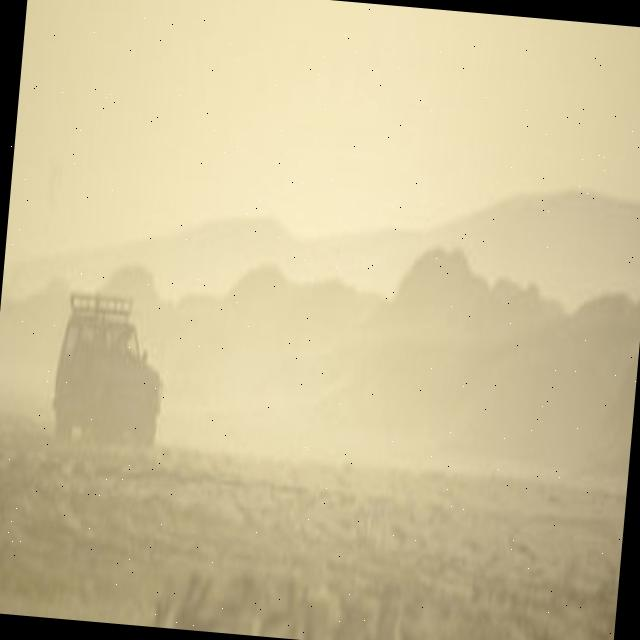car: (48, 286, 170, 449)
